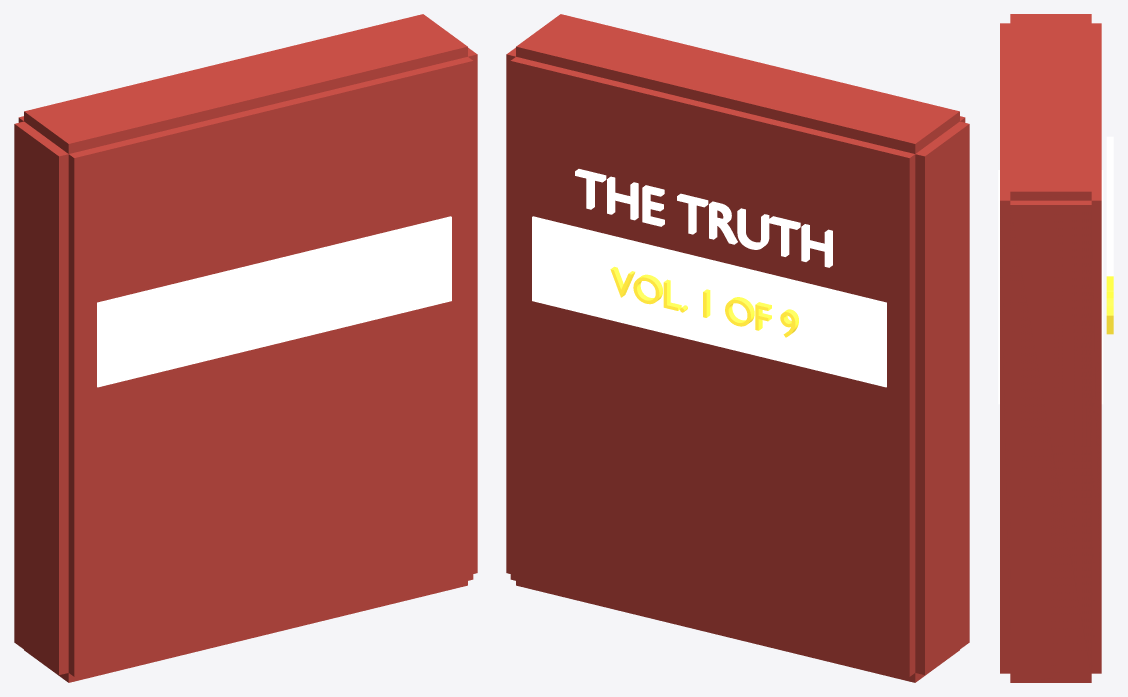
Rendered from binder_dale.glb.
The picture shows the model from 3 angles, left to right: view 1: azimuth 30°, elevation 25°; view 2: azimuth 150°, elevation 25°; view 3: azimuth 270°, elevation 25°; orthographic projection. The views are drawn at different scales.
Visible parts, largest first — view 1: binder_dale; view 2: binder_dale; view 3: binder_dale.
Boxes of the visible parts, x1,y1,x2,y2 form: binder_dale: (14,14,477,682); binder_dale: (506,14,969,682); binder_dale: (998,14,1113,682).
Bounding box in the file's own units: 0.26 × 0.32 × 0.068.
